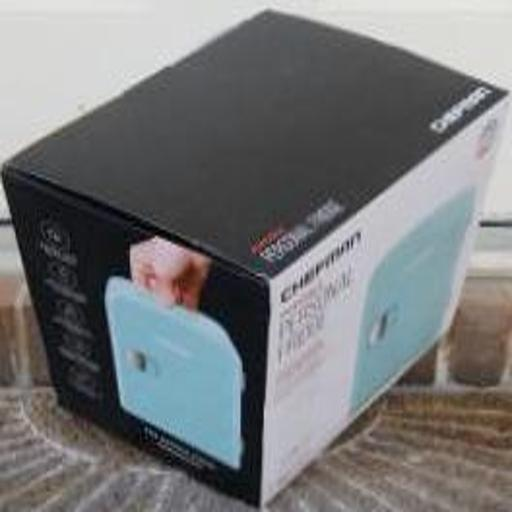Other: (47, 15, 488, 498)
